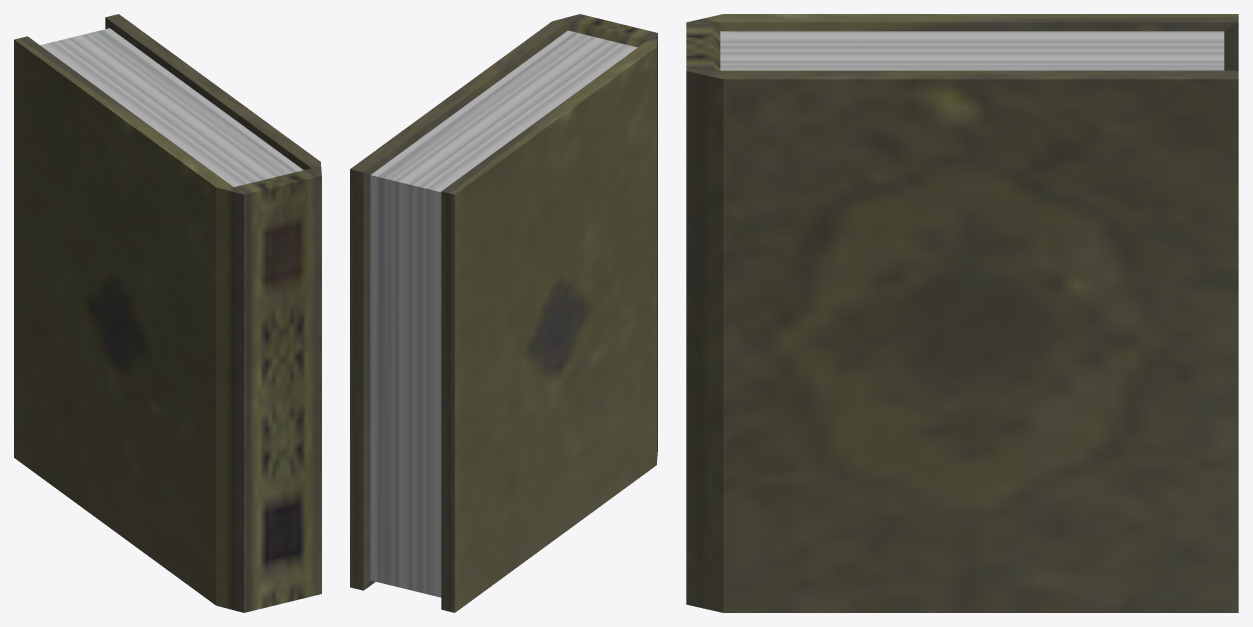
Rendered from livro2.fbx.
3 views of the same model, side by side, from view 1: azimuth 30°, elevation 25°; view 2: azimuth 150°, elevation 25°; view 3: azimuth 270°, elevation 25° (orthographic). The views are drawn at different scales.
Visible parts, largest first — view 1: Cube.001; view 2: Cube.001; view 3: Cube.001.
Part boxes in pixels (left/top/right/bottom): Cube.001: left=14, top=14, right=321, bottom=612; Cube.001: left=350, top=14, right=657, bottom=612; Cube.001: left=686, top=14, right=1238, bottom=612.
Bounding box in the file's own units: 14.87 × 56.73 × 53.22.
1 material, 1 textured.
